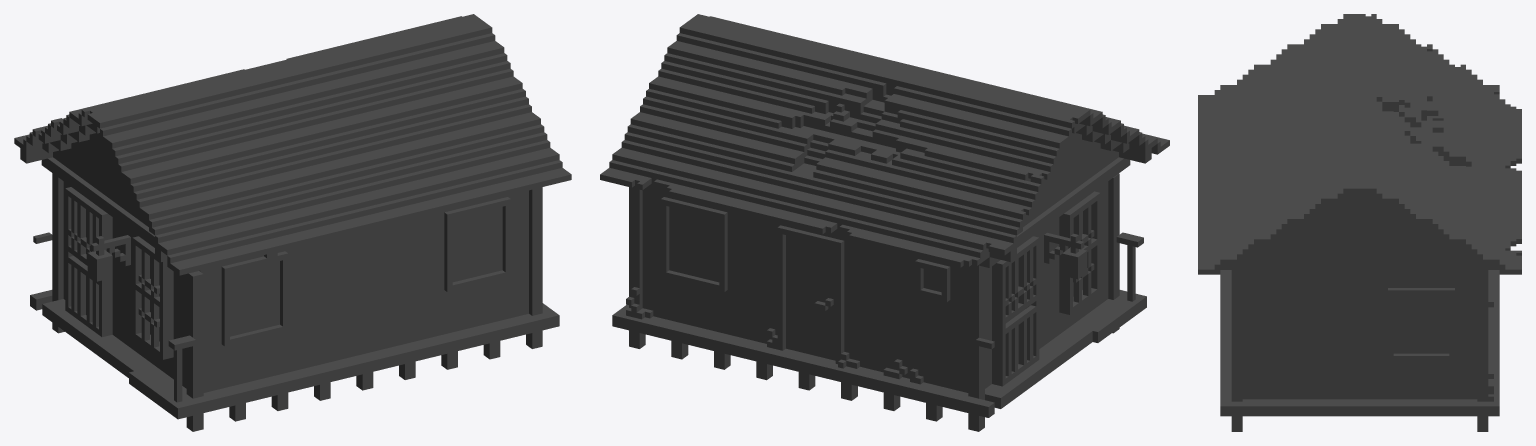
The model's file is house_2.obj.
The picture shows the model from 3 angles, left to right: view 1: azimuth 30°, elevation 25°; view 2: azimuth 150°, elevation 25°; view 3: azimuth 270°, elevation 25°; orthographic projection. The views are drawn at different scales.
Bounding box in the file's own units: 7.4 × 4.9 × 5.8.
